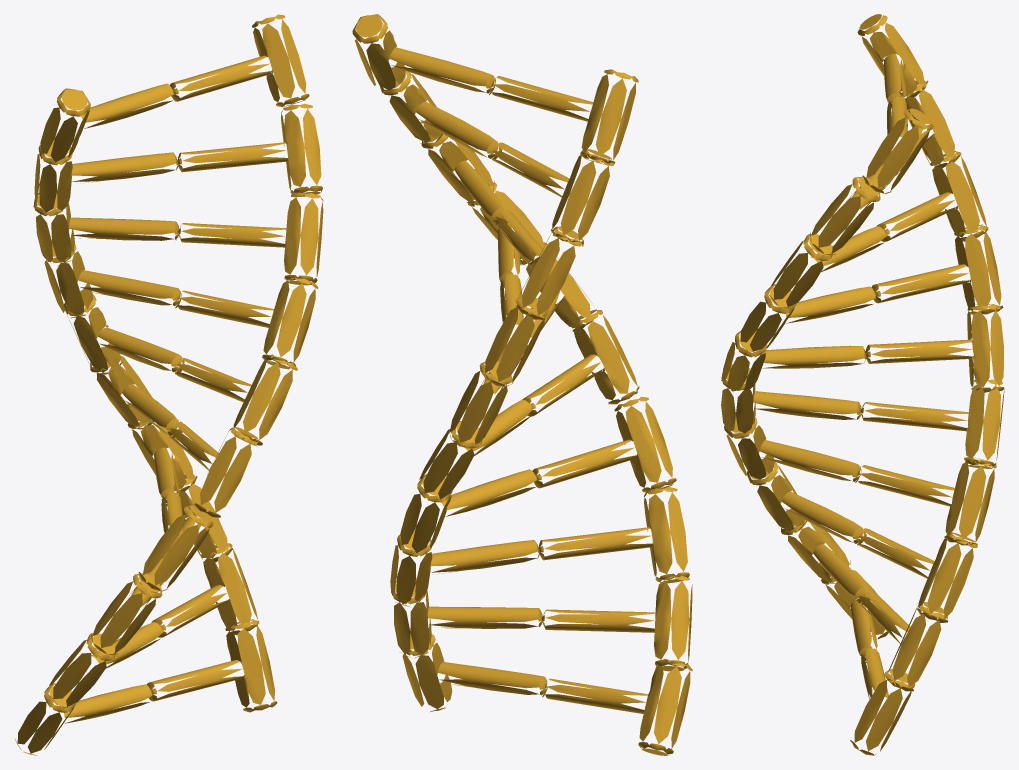
Rendered from medicine.glb.
3 views of the same model, side by side, from view 1: azimuth 30°, elevation 25°; view 2: azimuth 150°, elevation 25°; view 3: azimuth 270°, elevation 25° (orthographic). The views are drawn at different scales.
Parts seen in each view (by area): view 1: group1890997749, group1918272623, group98267956, group816999805, group1941224218, group1692922274, group1916454902, group905627815, group64402491, group80703863, group543773821, group583171219 (+8 smaller); view 2: group1184130097, group500574630, group583171219, group1692922274, group1100175594, group1890997749, group1355464784, group64402491, group1941224218, group679215435, group543773821, group1347056512 (+8 smaller); view 3: group98256001, group1347056512, group80703863, group1440525040, group679215435, group905627815, group500574630, group1916454902, group1355464784, group816999805, group543773821, group1918272623 (+8 smaller).
Boxes of the visible parts, <box> form: group1890997749: <box>170,14,309,107</box>; group1918272623: <box>178,192,323,285</box>; group98267956: <box>177,103,322,196</box>; group816999805: <box>177,277,318,369</box>; group1941224218: <box>147,619,277,712</box>; group1692922274: <box>40,83,173,162</box>; group1916454902: <box>175,354,297,446</box>; group905627815: <box>33,190,179,265</box>; group64402491: <box>34,139,178,215</box>; group80703863: <box>42,239,181,318</box>; group543773821: <box>151,543,258,637</box>; group583171219: <box>14,683,152,755</box>; group1184130097: <box>538,487,689,583</box>; group500574630: <box>532,396,676,492</box>; group583171219: <box>544,658,692,755</box>; group1692922274: <box>492,69,638,165</box>; group1100175594: <box>542,576,692,671</box>; group1890997749: <box>352,14,495,94</box>; group1355464784: <box>522,309,639,416</box>; group64402491: <box>491,142,614,243</box>; group1941224218: <box>402,633,547,712</box>; group679215435: <box>390,528,539,606</box>; group543773821: <box>392,578,542,658</box>; group1347056512: <box>398,469,536,554</box>; group98256001: <box>865,304,1004,392</box>; group1347056512: <box>857,457,996,547</box>; group80703863: <box>871,224,1003,314</box>; group1440525040: <box>860,379,1004,468</box>; group679215435: <box>857,528,977,622</box>; group905627815: <box>877,151,988,241</box>; group500574630: <box>724,412,861,482</box>; group1916454902: <box>722,330,866,391</box>; group1355464784: <box>721,364,861,435</box>; group816999805: <box>738,284,875,353</box>; group543773821: <box>859,588,947,691</box>; group1918272623: <box>769,226,886,308</box>.
Size of the model in its own units: 0.4474 by 1 by 0.3897.
